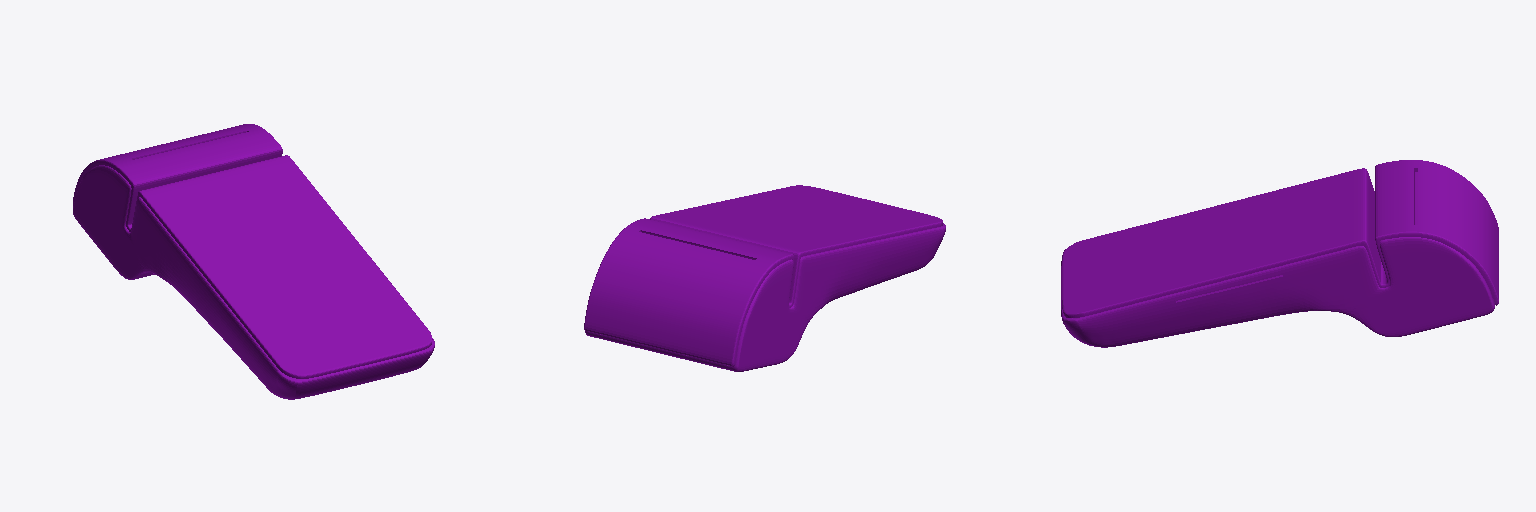
The model's file is terminal.obj.
The picture shows the model from 3 angles: view 1: azimuth 30°, elevation 25°; view 2: azimuth 150°, elevation 25°; view 3: azimuth 270°, elevation 25°; orthographic projection.
Visible parts, largest first — view 1: Terminal001; view 2: Terminal001; view 3: Terminal001.
Boxes of the visible parts, <box> form: Terminal001: <box>73,124,434,399</box>; Terminal001: <box>584,185,945,371</box>; Terminal001: <box>1061,160,1498,347</box>.
Size of the model in its own units: 74.5 by 56.11 by 184.